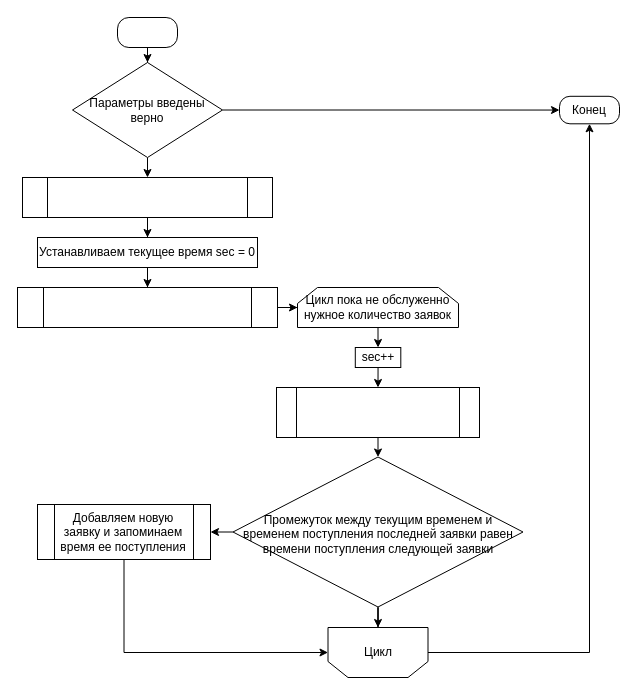
The diagram is 637 pixels wide and 695 high, and some of its shapes have lost their labels. The shapes that lost their labels are listed below. From the top down, each one's centre as x and y in pixels, then its label:
At (x=147, y=32): "Начало".
At (x=147, y=197): "Генерируем время поступления и обслуживания и приоритет заявок".
At (x=147, y=307): "Добавляем первую заявку и запоминаем время ее поступления".
At (x=378, y=412): "Убрать обслуженные заявки с устройств и занять их заявками из очереди".
